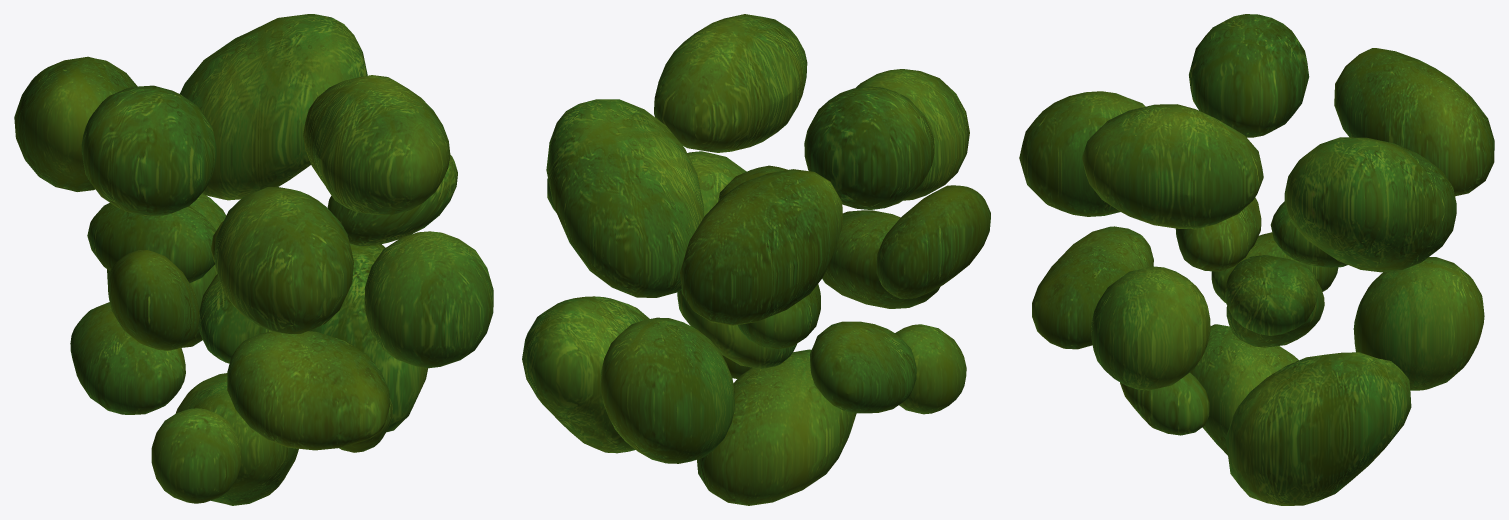
The model's file is microcystis_dynamic_12_3_15.fbx.
3 renders of one model, left to right at view 1: azimuth 30°, elevation 25°; view 2: azimuth 150°, elevation 25°; view 3: azimuth 270°, elevation 25°, orthographic. The views are drawn at different scales.
Parts seen in each view (by area): view 1: polySurface149; view 2: polySurface149; view 3: polySurface149.
Part boxes in pixels (x1,y1,x2,y2): polySurface149: (14, 14, 493, 505); polySurface149: (522, 14, 990, 505); polySurface149: (1019, 14, 1494, 505).
Size of the model in its own units: 6.88 by 7.33 by 7.84.
